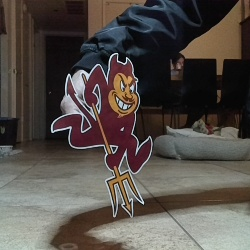sparky: (50, 52, 152, 218)
